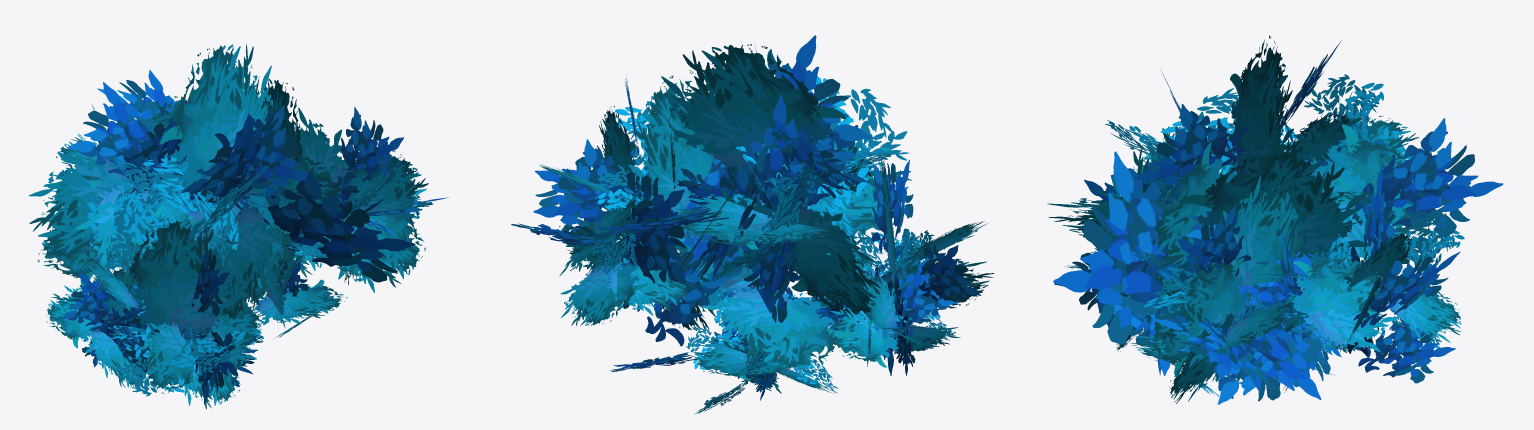
Rendered from bluebush7.fbx.
3 views of the same model, side by side, from view 1: azimuth 30°, elevation 25°; view 2: azimuth 150°, elevation 25°; view 3: azimuth 270°, elevation 25° (orthographic). The views are drawn at different scales.
Visible parts, largest first — view 1: purpletree:polySurface166; view 2: purpletree:polySurface166; view 3: purpletree:polySurface166.
Part boxes in pixels (left/top/right/bottom): purpletree:polySurface166: left=29, top=44, right=448, bottom=409; purpletree:polySurface166: left=511, top=35, right=993, bottom=414; purpletree:polySurface166: left=1047, top=35, right=1503, bottom=404.
Size of the model in its own units: 16.76 by 13.56 by 15.
